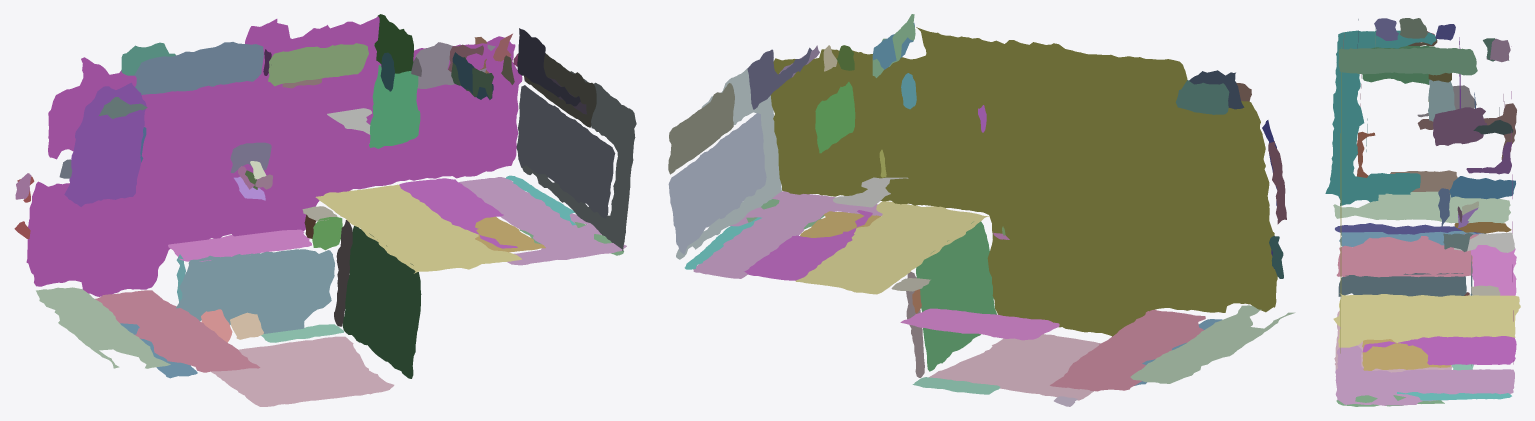
File: pigs_scene057.glb
3 views of the same model, side by side, from view 1: azimuth 30°, elevation 25°; view 2: azimuth 150°, elevation 25°; view 3: azimuth 270°, elevation 25° (orthographic). The views are drawn at different scales.
Size of the model in its own units: 7.24 by 4.24 by 2.78.
